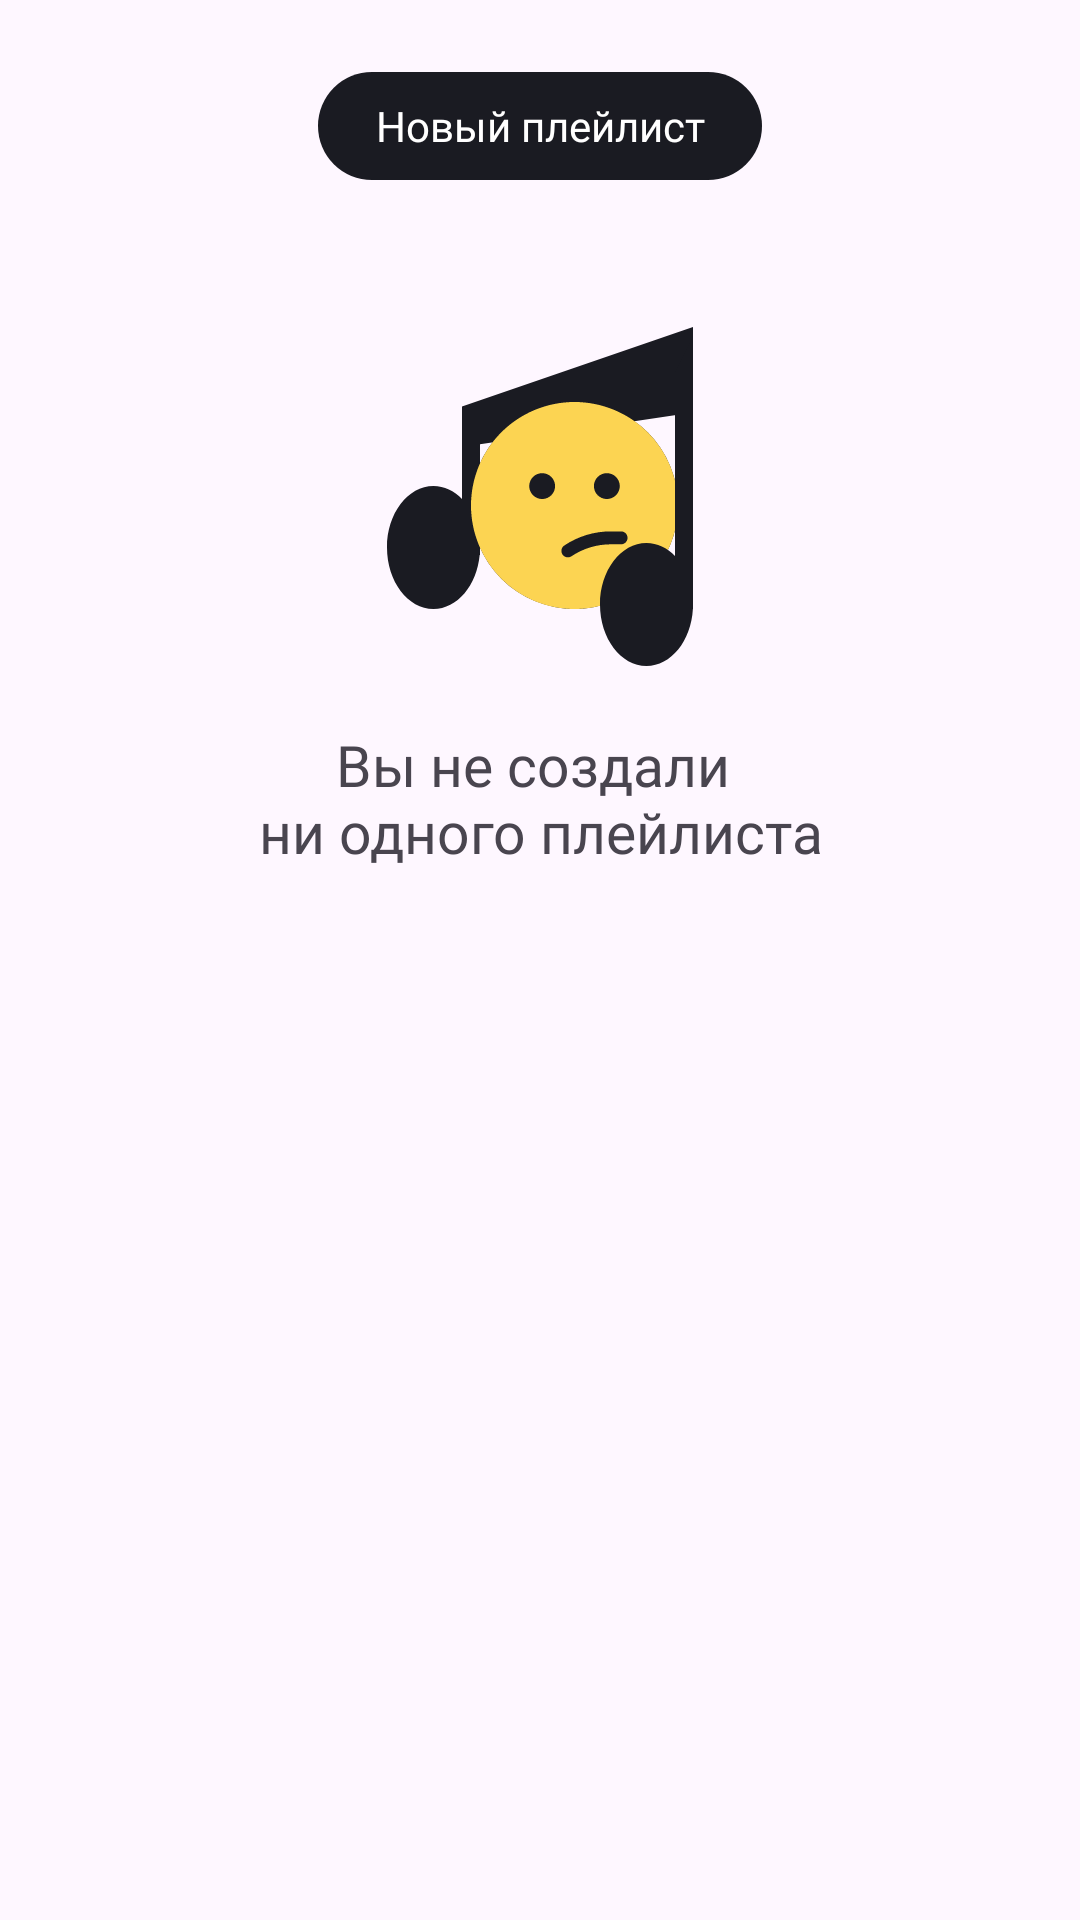

Locate icon controls on the screen. Image size 1080px×1920px, boxes as [x1=x1, y1=y1, x2=x2, y2=y2].
sad smile mus: [x1=387, y1=327, x2=693, y2=666]
